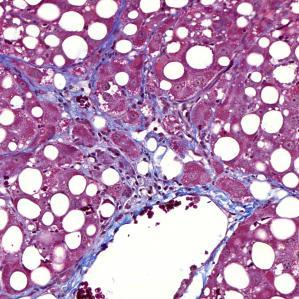fibrosis: (79, 95, 213, 183)
